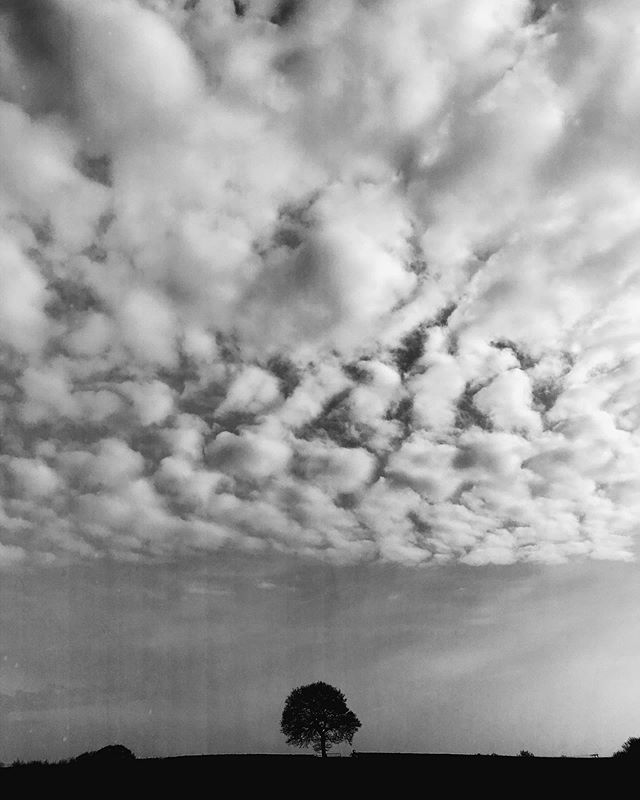sky: (5, 1, 640, 748)
tree: (278, 675, 360, 750)
